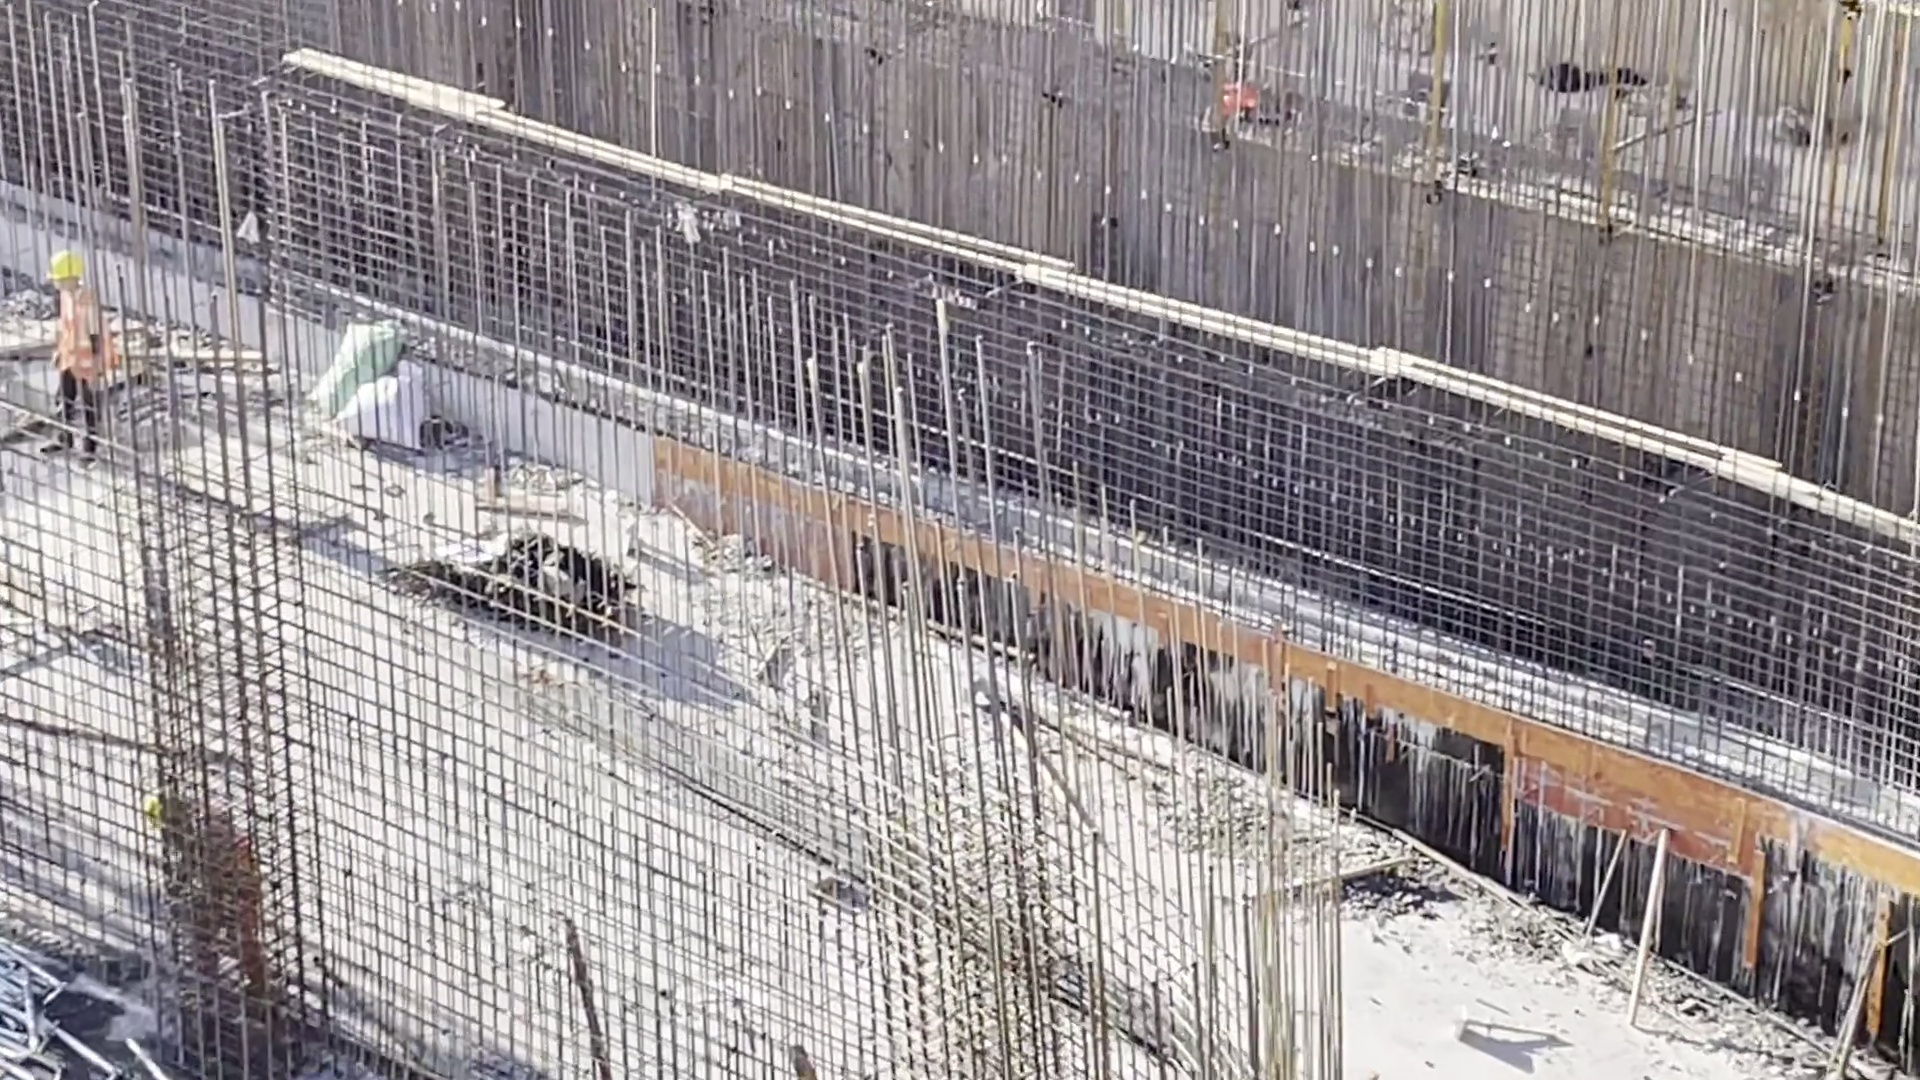helmet: (145, 795, 195, 827), (49, 253, 95, 282)
person: (145, 775, 282, 991), (45, 249, 130, 460)
vest: (38, 288, 104, 393), (190, 810, 260, 888)
